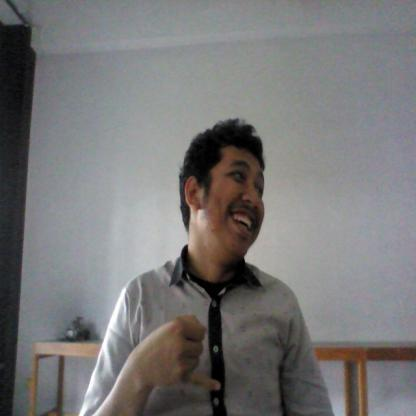J: (121, 308, 233, 404)
